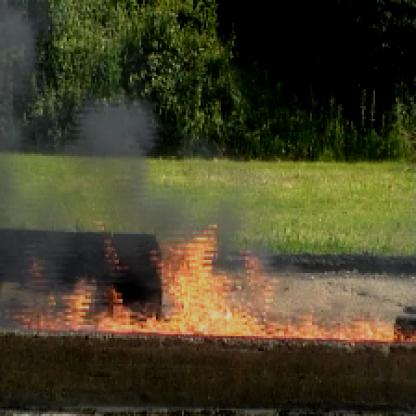Fire: (95, 228, 403, 346)
Smoke: (2, 2, 141, 262)
